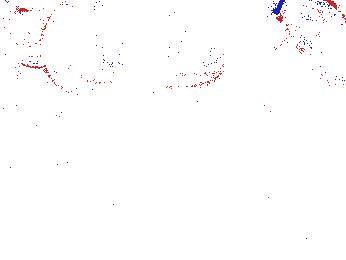moon jellyfish: (40, 1, 123, 99), (130, 20, 226, 90), (271, 1, 346, 85)
